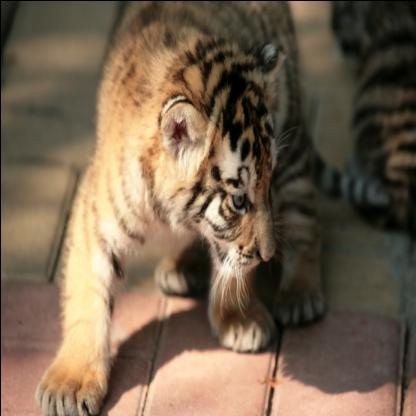tiger: (152, 44, 288, 284)
